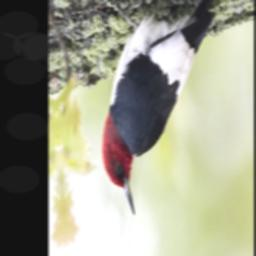Woodpecker: (90, 0, 238, 236)
